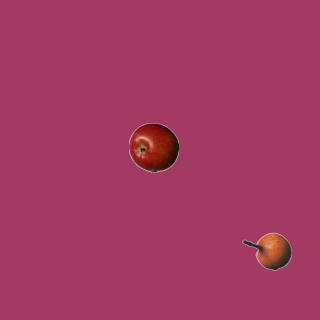Apple Braeburn: (128, 122, 178, 172)
Granadilla: (241, 226, 291, 276)
